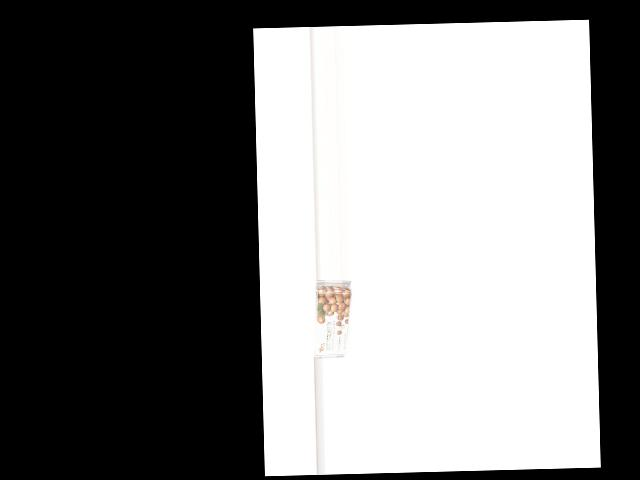chocolate: (314, 280, 353, 358)
